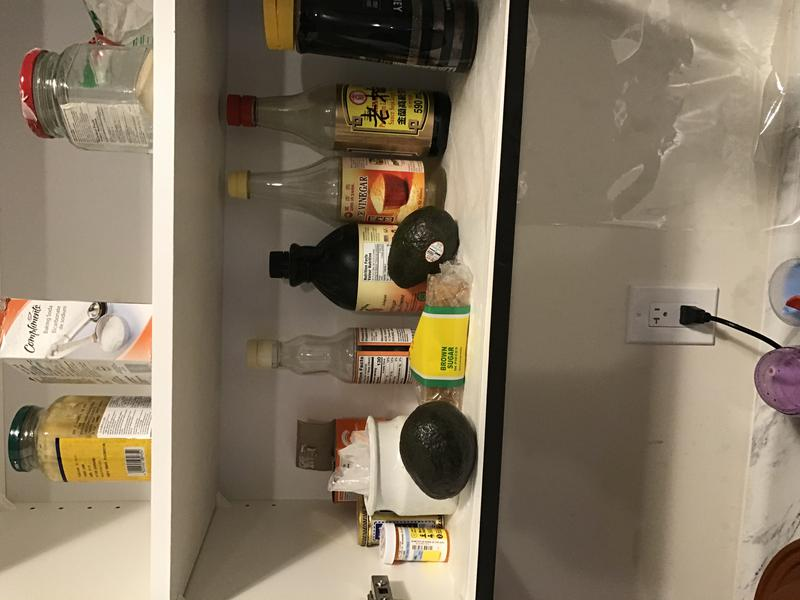avacado: (392, 395, 478, 506), (387, 202, 461, 294)
